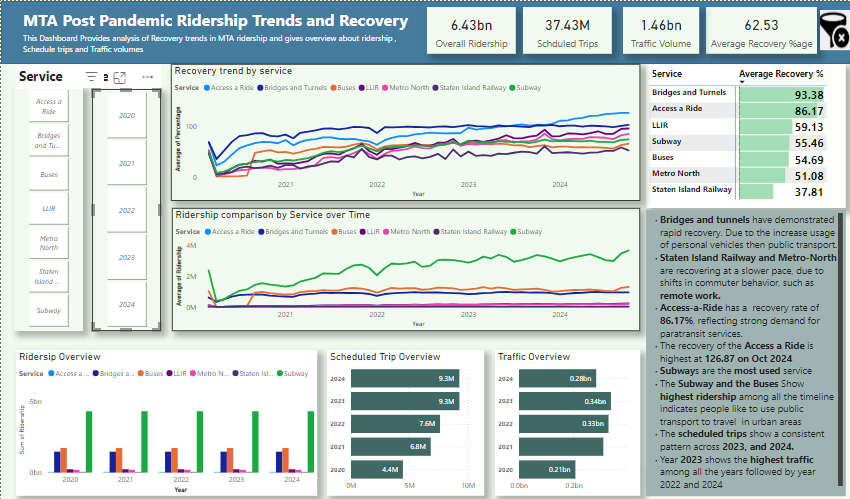

The page's visual inventory and layout, read from the dashboard file:
{"tool":"powerbi","page":{"name":"Page 1","canvas":[1420,840],"ordinal":0},"visuals":[{"type":"slicer","fields":{"Values":["percentage.Date.Variation.Date Hierarchy.Year"]},"box":[1190,786.2,115,15],"z":0},{"type":"slicer","fields":{"Values":["MTA_Daily_Ridership.Date.Variation.Date Hierarchy.Year"]},"box":[1075,771.2,115,28.8],"z":1000},{"type":"shape","box":[0,0,1420,105],"z":2000},{"type":"pivotTable","fields":{"Values":["Avg(percentage.Value)"],"Rows":["percentage.Service"]},"box":[1075,105,333.3,240],"z":3000},{"type":"lineChart","title":"Ridership comparison by  Service over Time ","fields":{"Y":["Avg(Ridership.Ridership)"],"Series":["Ridership.Service"],"Category":["Ridership.Date.Variation.Date Hierarchy.Year","Ridership.Date.Variation.Date Hierarchy.Quarter","Ridership.Date.Variation.Date Hierarchy.Month"]},"box":[285,345,780,205],"z":4000},{"type":"slicer","fields":{"Values":["Ridership.Service"]},"box":[21.7,141.7,115,408.3],"z":5000},{"type":"lineChart","title":"Recovery trend by service","fields":{"Category":["percentage.Date.Variation.Date Hierarchy.Year","percentage.Date.Variation.Date Hierarchy.Quarter","percentage.Date.Variation.Date Hierarchy.Month"],"Y":["Avg(percentage.Percentage)"],"Series":["Ridership.Service"]},"box":[283.3,105,781.7,228.3],"z":6000},{"type":"textbox","box":[31.7,8.3,678.3,58.3],"z":7000},{"type":"barChart","title":"Scheduled Trip Overview","fields":{"Y":["Sum(MTA_Daily_Ridership.Access-A-Ride: Total Scheduled Trips)"],"Category":["MTA_Daily_Ridership.Date.Variation.Date Hierarchy.Year","MTA_Daily_Ridership.Date.Variation.Date Hierarchy.Quarter","MTA_Daily_Ridership.Date.Variation.Date Hierarchy.Month","MTA_Daily_Ridership.Date.Variation.Date Hierarchy.Day"]},"box":[543.3,581.7,261.7,243.3],"z":8000},{"type":"barChart","title":"Traffic Overview","fields":{"Y":["Sum(MTA_Daily_Ridership.Bridges and Tunnels: Total Traffic)"],"Category":["MTA_Daily_Ridership.Date.Variation.Date Hierarchy.Year","MTA_Daily_Ridership.Date.Variation.Date Hierarchy.Quarter","MTA_Daily_Ridership.Date.Variation.Date Hierarchy.Month","MTA_Daily_Ridership.Date.Variation.Date Hierarchy.Day"]},"box":[823.3,581.7,241.7,243.3],"z":9000},{"type":"lineClusteredColumnComboChart","title":"Ridersip  Overview","fields":{"Category":["percentage.Date.Variation.Date Hierarchy.Year"],"Series":["percentage.Service"],"Y":["Sum(Ridership.Ridership)"]},"box":[25,581.7,501.7,243.3],"z":10000},{"type":"card","fields":{"Values":["Avg(percentage.Percentage)"]},"box":[1175,10,185,78.3],"z":11000},{"type":"textbox","box":[1075,348.3,333.3,476.7],"z":12000},{"type":"image","box":[1360,10,60,76.7],"z":13000},{"type":"textbox","box":[25,105,110,41.7],"z":14000},{"type":"textbox","box":[151.7,105,115,41.7],"z":15000},{"type":"card","fields":{"Values":["MTA_Daily_Ridership.Overall Ridership"]},"box":[710,10,148.3,78.3],"z":16000},{"type":"card","fields":{"Values":["MTA_Daily_Ridership.Schduled Trips"]},"box":[870,10,148.3,78.3],"z":17000},{"type":"card","fields":{"Values":["MTA_Daily_Ridership.Traffic Volume"]},"box":[1036.7,10,126.7,78.3],"z":18000},{"type":"textbox","box":[32.2,48.9,643.3,47.8],"z":19000},{"type":"slicer","fields":{"Values":["Ridership.Date.Variation.Date Hierarchy.Year"]},"box":[151.7,146.7,115,403.3],"z":20000}]}

Visuals, with their boxes in screenshot pixels (x1, y1, x2, y2), scaled from the page's 1420x840 canvas onto the 850x499 screenshot:
slicer - percentage.Date.Variation.Date Hierarchy.Year: 712:467:781:476
slicer - MTA_Daily_Ridership.Date.Variation.Date Hierarchy.Year: 643:458:712:475
shape: 0:0:849:62
pivotTable - Avg(percentage.Value) x percentage.Service: 643:62:843:205
"Ridership comparison by  Service over Time " lineChart: 171:205:638:327
slicer - Ridership.Service: 13:84:82:327
"Recovery trend by service" lineChart: 170:62:638:198
textbox: 19:5:425:40
"Scheduled Trip Overview" barChart: 325:346:482:490
"Traffic Overview" barChart: 493:346:638:490
"Ridersip  Overview" lineClusteredColumnComboChart: 15:346:315:490
card - Avg(percentage.Percentage): 703:6:814:52
textbox: 643:207:843:490
image: 814:6:849:52
textbox: 15:62:81:87
textbox: 91:62:160:87
card - MTA_Daily_Ridership.Overall Ridership: 425:6:514:52
card - MTA_Daily_Ridership.Schduled Trips: 521:6:610:52
card - MTA_Daily_Ridership.Traffic Volume: 621:6:696:52
textbox: 19:29:404:57
slicer - Ridership.Date.Variation.Date Hierarchy.Year: 91:87:160:327
